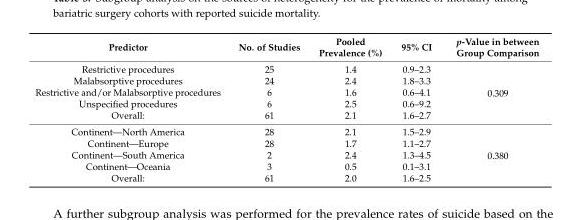table: (34, 35, 538, 183)
table column: (34, 35, 228, 183), (443, 35, 538, 183), (308, 35, 390, 183), (228, 35, 308, 183), (390, 35, 443, 183)
table column header: (34, 35, 538, 60)
table row: (34, 35, 538, 60), (34, 108, 538, 123), (34, 60, 538, 74), (34, 123, 538, 137), (34, 85, 538, 97), (34, 148, 538, 160), (34, 171, 538, 183), (34, 74, 538, 85), (34, 97, 538, 108), (34, 137, 538, 148), (34, 160, 538, 171)
table spanning cell: (443, 60, 538, 123), (443, 123, 538, 183)
